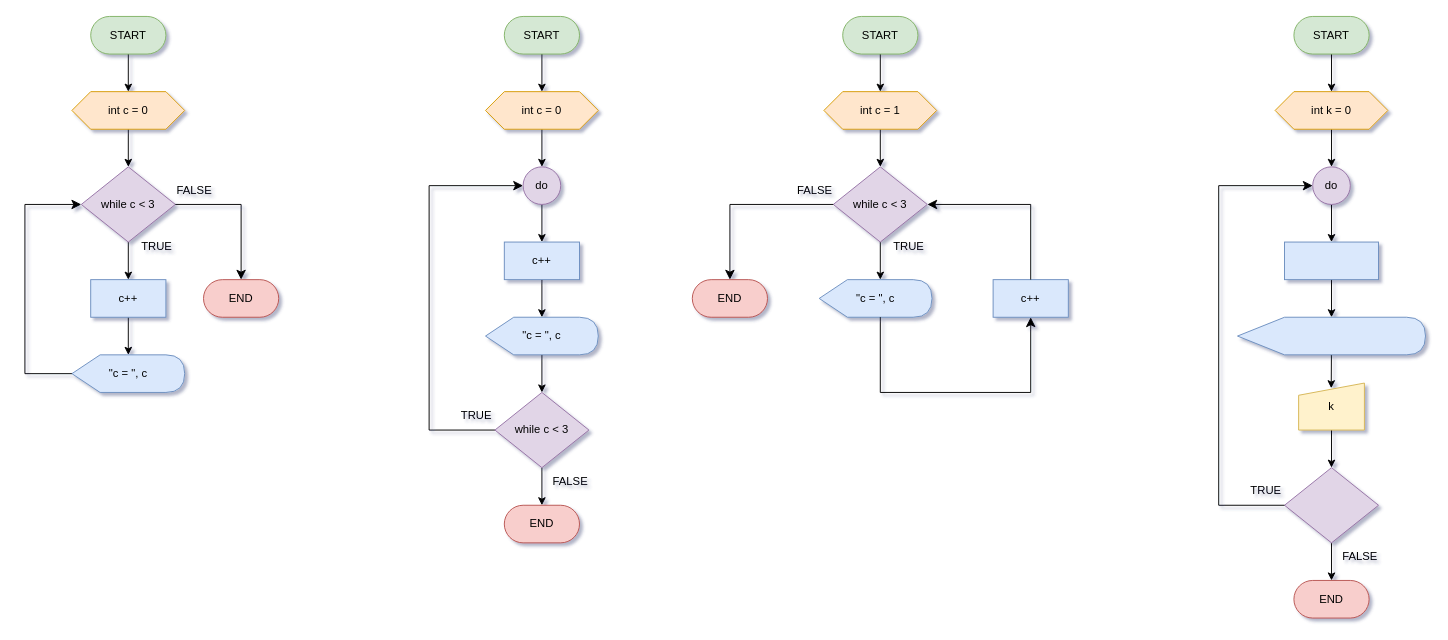
This 1448x640 diagram has some shape labels left out. Each missing label, with the centre of its shape:
"Do you want to continue (1)": (1331,335)
Area Calculate: (1331,260)
while k==1: (1331,505)
